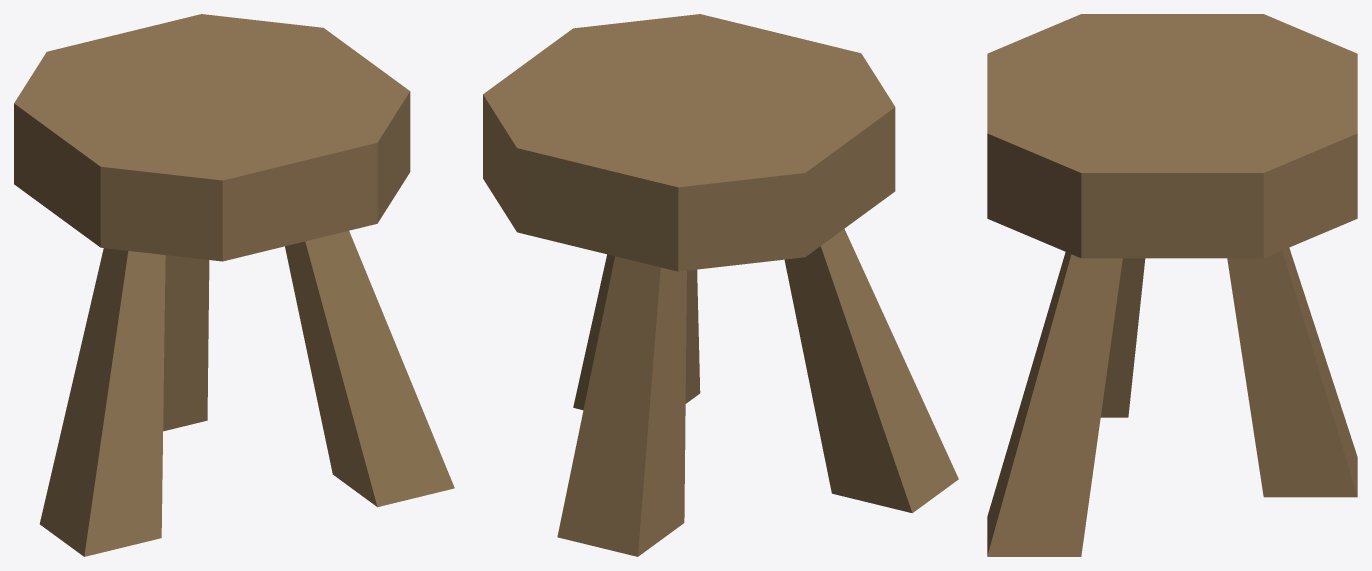
The picture shows the model from 3 angles, left to right: view 1: azimuth 30°, elevation 25°; view 2: azimuth 150°, elevation 25°; view 3: azimuth 270°, elevation 25°; orthographic projection. The views are drawn at different scales.
Size of the model in its own units: 72 by 72 by 63.
1 material, 1 textured.
